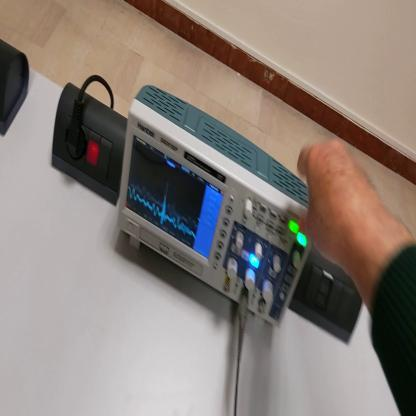hand: (299, 140, 379, 274)
oscilloscope: (120, 84, 315, 331)
socket: (53, 79, 127, 208), (2, 39, 32, 138)
